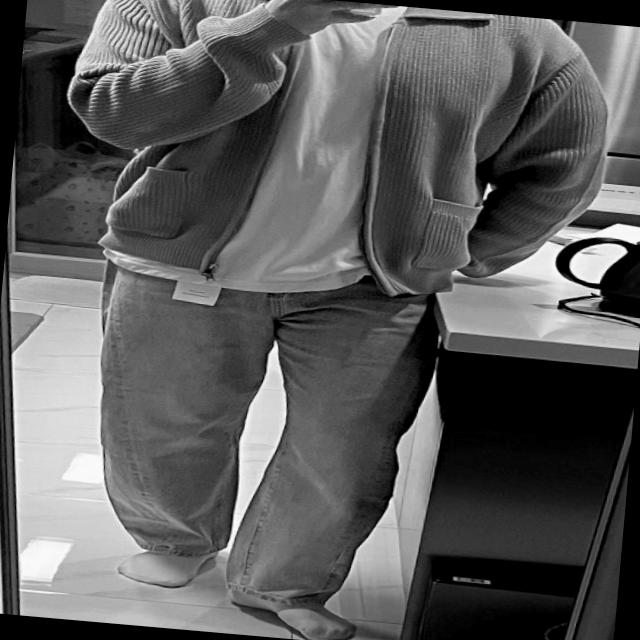cardigan: (55, 0, 614, 315)
denimpants: (84, 254, 445, 621)
